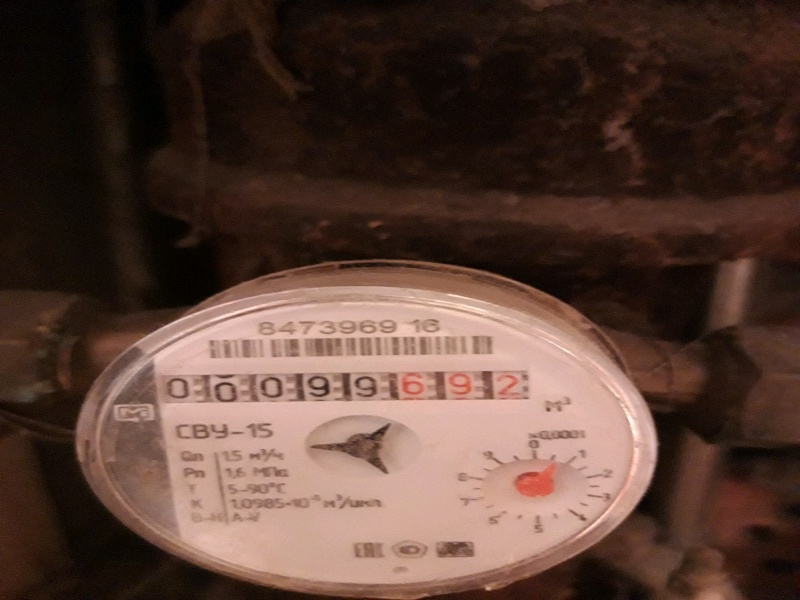meter: (157, 363, 538, 411)
